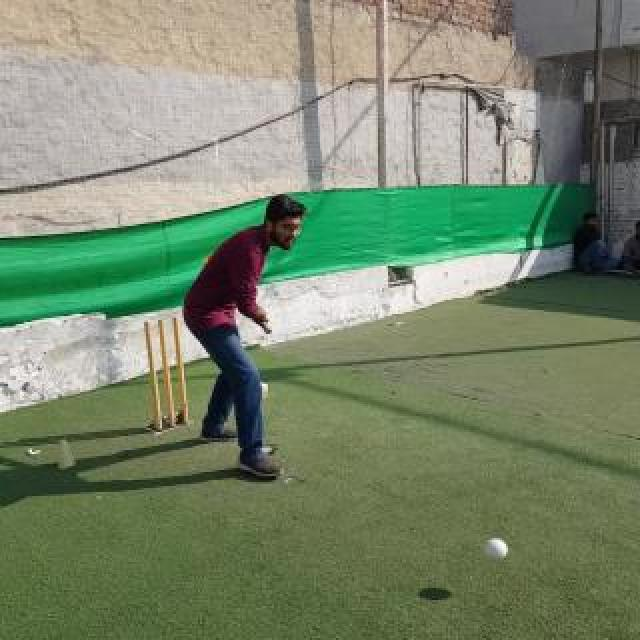ball: (484, 538, 508, 562)
